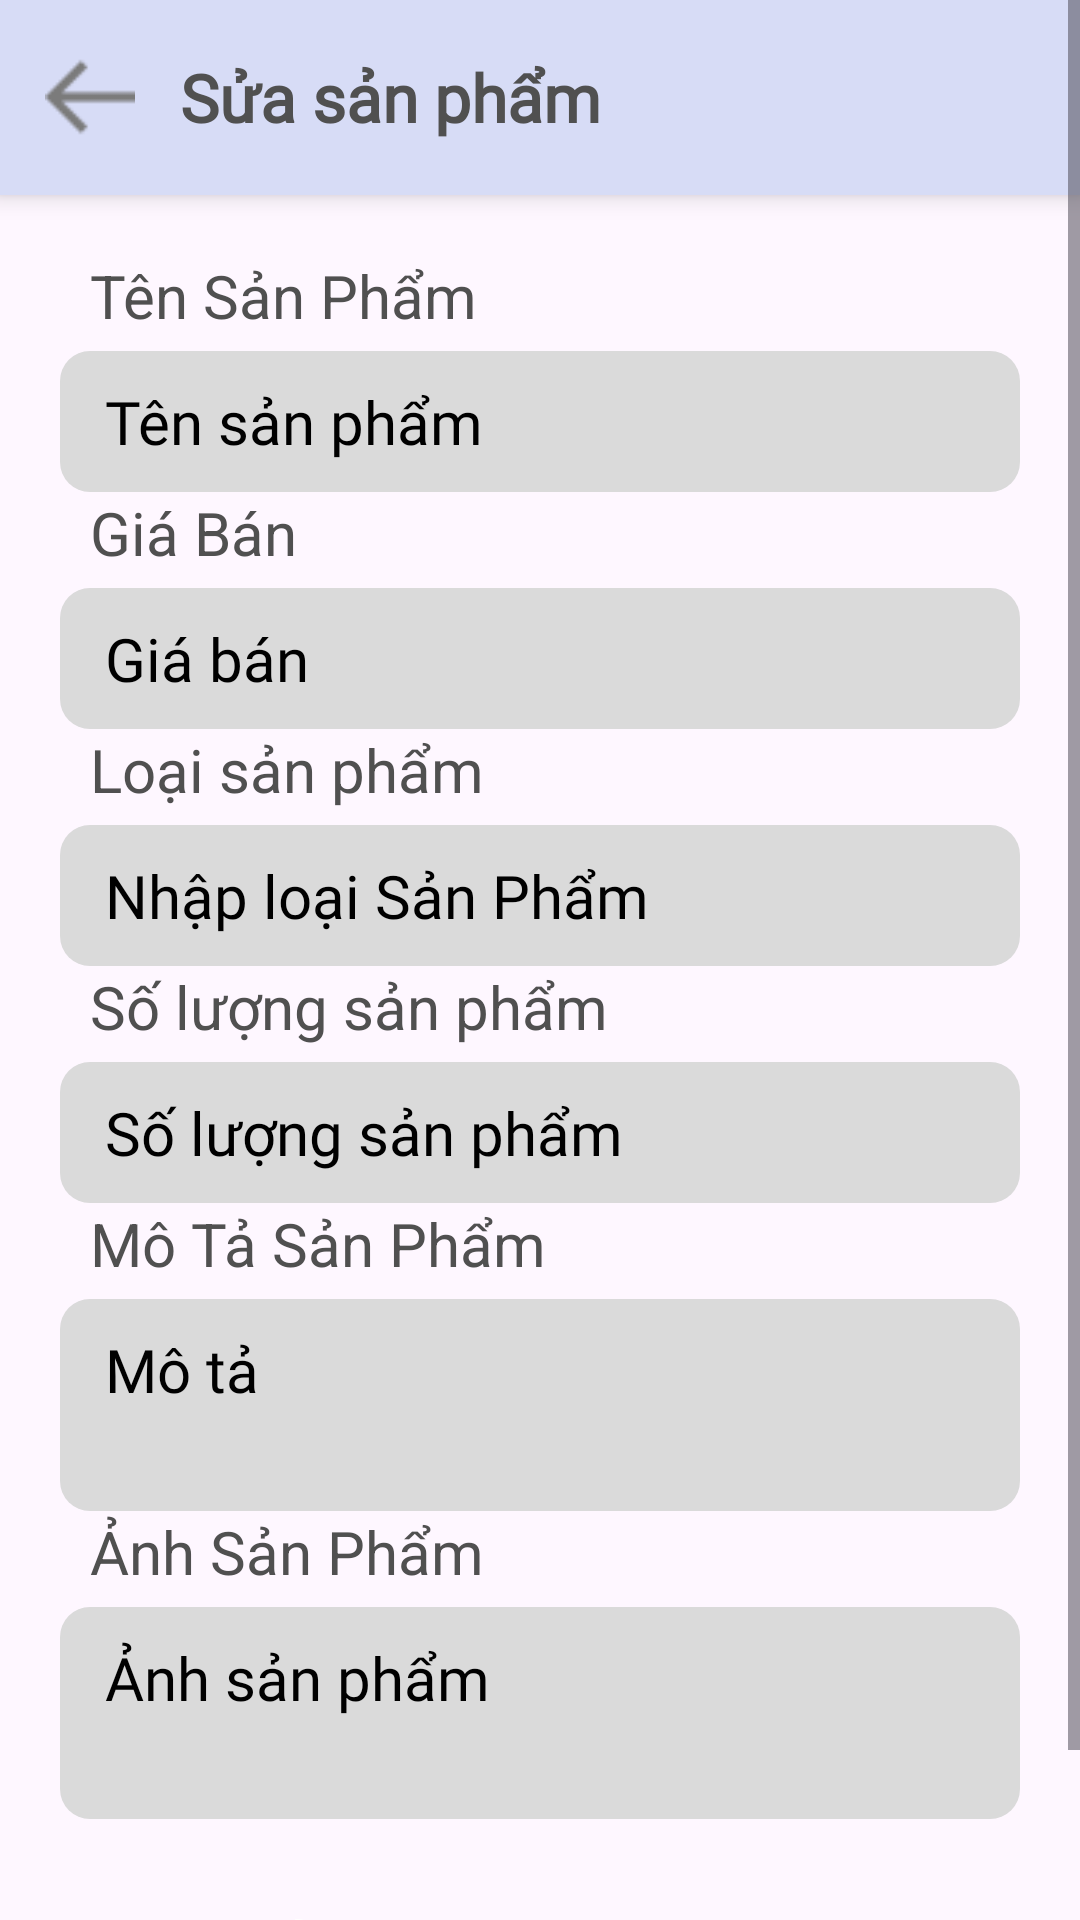

Screen size 1080px x 1920px. Icon name, then its center in pixels as (x,y):
leftarrow: (90,97)
